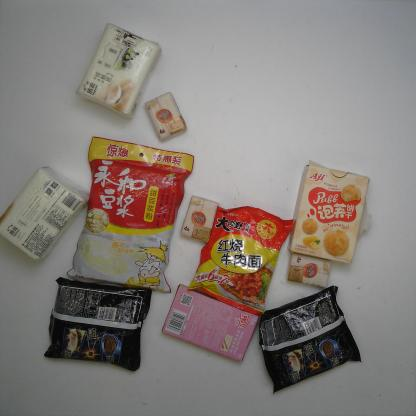Dessert: (280, 160, 376, 268), (157, 280, 261, 367)
Instant Drink: (65, 134, 197, 296)
Instant Noodles: (255, 280, 369, 393), (189, 201, 294, 321), (37, 276, 152, 367)
Tissue: (0, 159, 89, 266), (72, 19, 164, 120), (141, 89, 191, 140), (173, 194, 224, 243), (286, 250, 334, 292)
